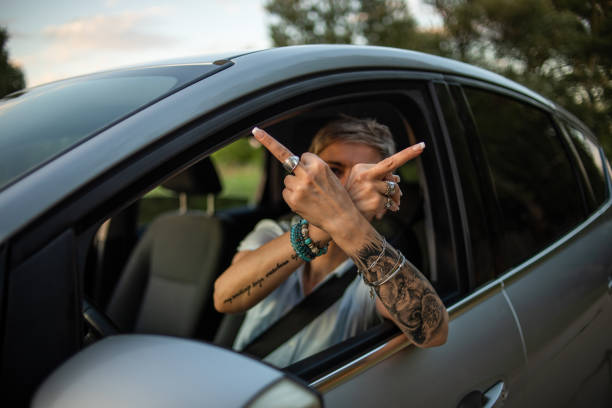insulting_gesture: (243, 125, 434, 245)
